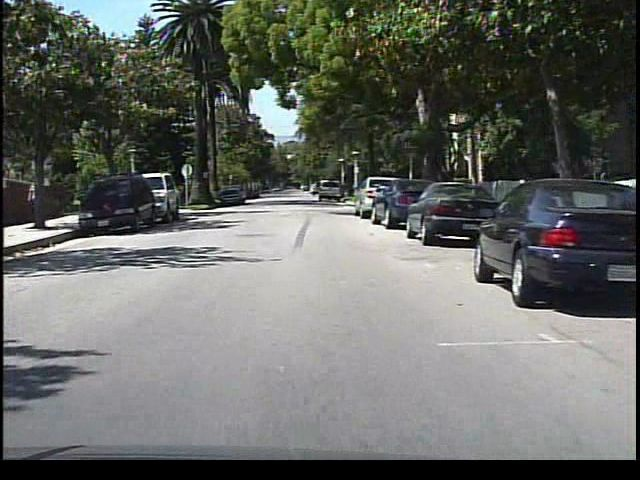person: (24, 177, 43, 225)
